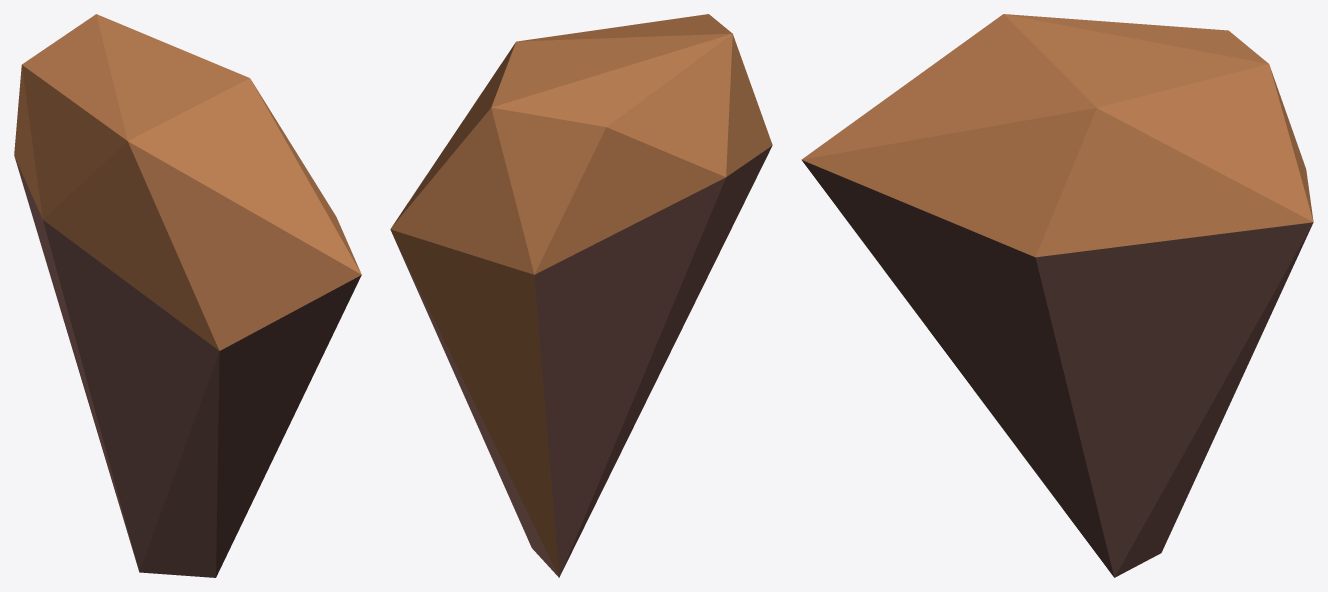
File: CommonTree_Autumn_5.lod4.glb
3 renders of one model, left to right at view 1: azimuth 30°, elevation 25°; view 2: azimuth 150°, elevation 25°; view 3: azimuth 270°, elevation 25°, orthographic. The views are drawn at different scales.
Parts seen in each view (by area): view 1: CommonTree_Autumn_5; view 2: CommonTree_Autumn_5; view 3: CommonTree_Autumn_5.
Boxes of the visible parts, x1,y1,x2,y2 form: CommonTree_Autumn_5: (14, 14, 361, 577); CommonTree_Autumn_5: (390, 14, 772, 577); CommonTree_Autumn_5: (801, 14, 1313, 577).
Bounding box in the file's own units: 1.34 × 2.5 × 2.34.
